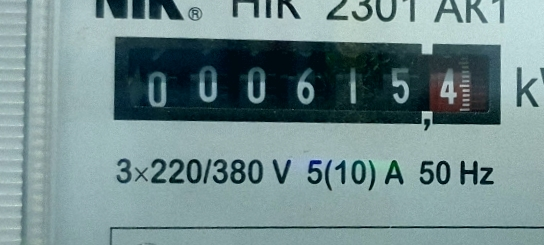0: (242, 63, 269, 106), (143, 67, 170, 108), (195, 62, 219, 103)
1: (345, 64, 360, 106)
4: (437, 64, 458, 105)
5: (387, 63, 412, 106)
6: (292, 64, 317, 106)
screen: (97, 17, 516, 147)
